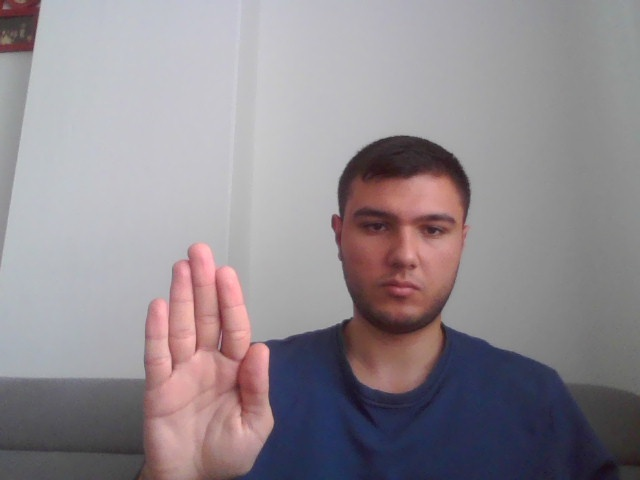Hello: (136, 241, 277, 474)
